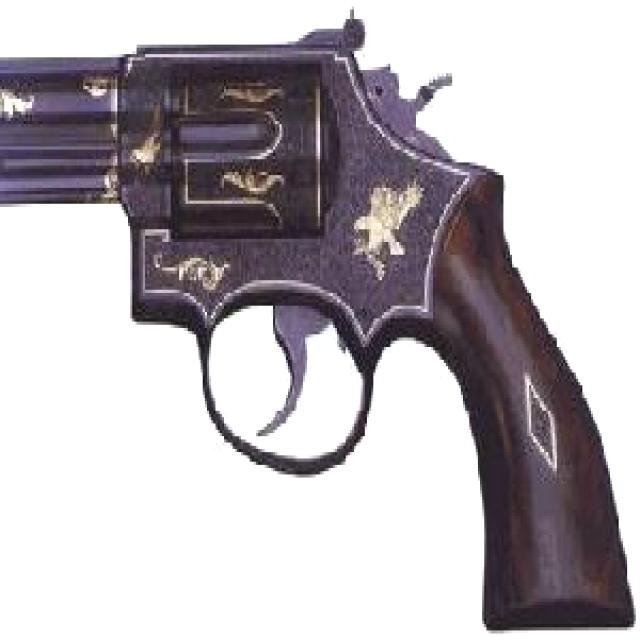pistol: (2, 3, 640, 627)
